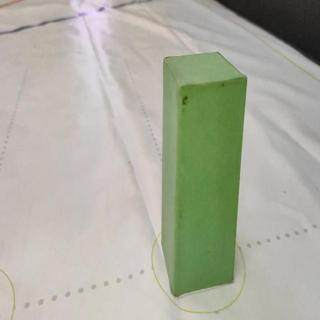greenbox: (161, 50, 249, 299)
